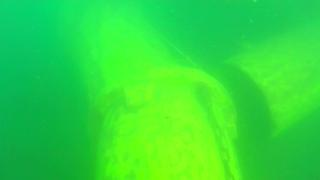pipe: (73, 1, 210, 114), (92, 83, 239, 180), (222, 30, 320, 139)
